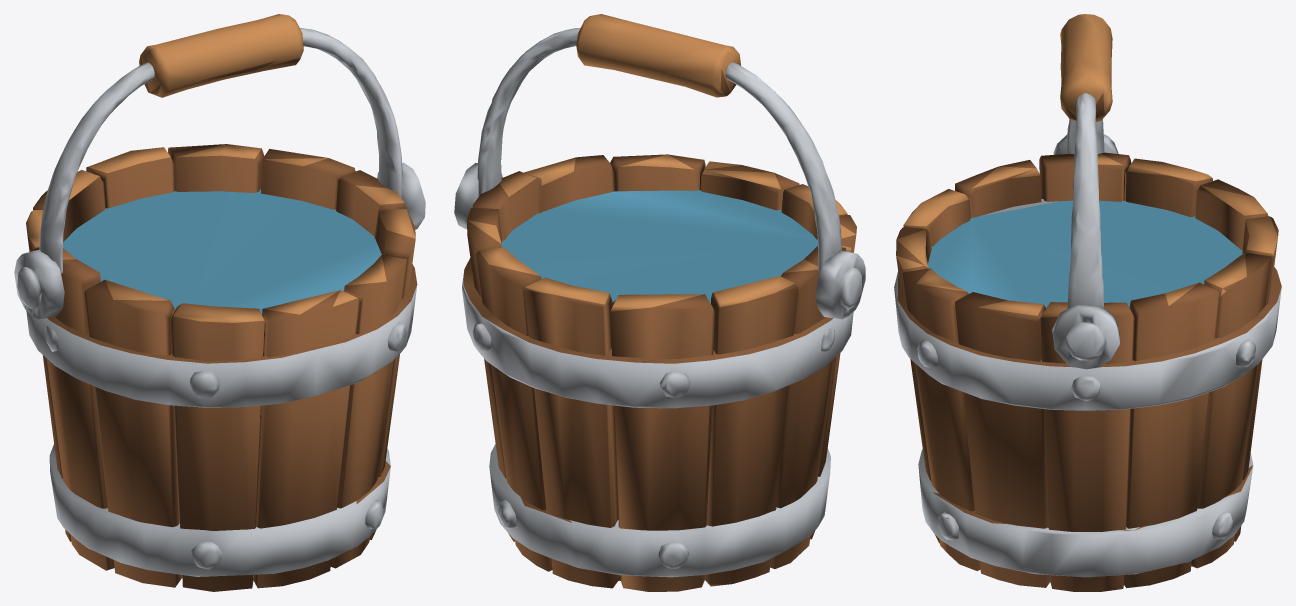
File: Bucket.glb
The picture shows the model from 3 angles, left to right: view 1: azimuth 30°, elevation 25°; view 2: azimuth 150°, elevation 25°; view 3: azimuth 270°, elevation 25°; orthographic projection. The views are drawn at different scales.
Visible parts, largest first — view 1: tripo_node_03728ddd-4036-4d16-acb4-de2fda45a84b; view 2: tripo_node_03728ddd-4036-4d16-acb4-de2fda45a84b; view 3: tripo_node_03728ddd-4036-4d16-acb4-de2fda45a84b.
Part boxes in pixels (x1=…): tripo_node_03728ddd-4036-4d16-acb4-de2fda45a84b: x1=14, y1=14, x2=425, y2=591; tripo_node_03728ddd-4036-4d16-acb4-de2fda45a84b: x1=454, y1=14, x2=865, y2=591; tripo_node_03728ddd-4036-4d16-acb4-de2fda45a84b: x1=894, y1=14, x2=1281, y2=591.
Size of the model in its own units: 0.6218 by 0.75 by 0.5446.
